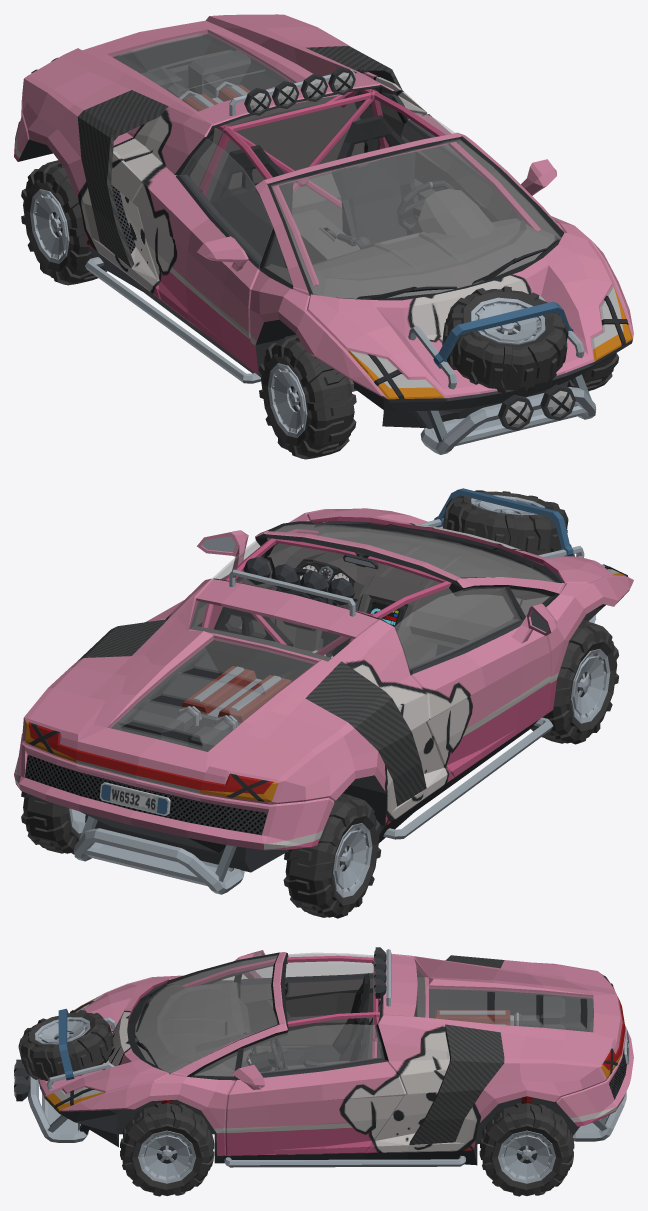
The model's file is SK_Veh_Preset_Exotic_03.fbx.
The picture shows the model from 3 angles, top to bottom: view 1: azimuth 30°, elevation 25°; view 2: azimuth 150°, elevation 25°; view 3: azimuth 270°, elevation 25°; orthographic projection. The views are drawn at different scales.
Visible parts, largest first — view 1: SK_Veh_Preset_Exotic_03, SK_Veh_Exotic_03_Glass, SK_Veh_Exotic_03_Bonnet_03, SK_Veh_Exotic_03_Door_R, SK_Veh_Exotic_03_Seats_01, SK_Veh_Exotic_03_Wheel_37, SK_Veh_Exotic_03_Wheel_fr, SK_Veh_Exotic_03_Engine_Cover_01, SK_Veh_Exotic_03_Rollcage_01, SK_Veh_Exotic_03_Wheel_rr, SK_Veh_Exotic_03_Front_Bumper_03, SK_Veh_Exotic_03_Door_R_Glass (+8 smaller); view 2: SK_Veh_Preset_Exotic_03, SK_Veh_Exotic_03_Rear_Bumper_03, SK_Veh_Exotic_03_Door_R, SK_Veh_Exotic_03_Engine_Cover_01, SK_Veh_Exotic_03_Glass, SK_Veh_Exotic_03_Wheel_rr, SK_Veh_Exotic_03_Engine_01, SK_Veh_Exotic_03_Wheel_fr, SK_Veh_Exotic_03_Door_R_Glass, SK_Veh_Exotic_03_Bonnet_03, SK_Veh_Exotic_03_Wheel_37, SK_Veh_Exotic_03_Rollcage_01 (+7 smaller); view 3: SK_Veh_Preset_Exotic_03, SK_Veh_Exotic_03_Door_L, SK_Veh_Exotic_03_Glass, SK_Veh_Exotic_03_Wheel_rl, SK_Veh_Exotic_03_Wheel_fl, SK_Veh_Exotic_03_Door_R, SK_Veh_Exotic_03_Bonnet_03, SK_Veh_Exotic_03_Engine_Cover_01, SK_Veh_Exotic_03_Door_L_Glass, SK_Veh_Exotic_03_Wheel_37, SK_Veh_Exotic_03_Rear_Bumper_03, SK_Veh_Exotic_03_Seats_01 (+8 smaller).
Part boxes in pixels (x1,y1,x2,y2): SK_Veh_Preset_Exotic_03: (22,14,633,427); SK_Veh_Exotic_03_Glass: (266,95,560,299); SK_Veh_Exotic_03_Bonnet_03: (307,232,613,398); SK_Veh_Exotic_03_Door_R: (133,174,262,371); SK_Veh_Exotic_03_Seats_01: (210,115,418,268); SK_Veh_Exotic_03_Wheel_37: (442,286,568,392); SK_Veh_Exotic_03_Wheel_fr: (259,334,356,459); SK_Veh_Exotic_03_Engine_Cover_01: (107,29,296,111); SK_Veh_Exotic_03_Rollcage_01: (199,89,541,286); SK_Veh_Exotic_03_Wheel_rr: (21,160,107,285); SK_Veh_Exotic_03_Front_Bumper_03: (412,374,596,454); SK_Veh_Exotic_03_Door_R_Glass: (180,139,272,262); SK_Veh_Preset_Exotic_03: (22,509,633,872); SK_Veh_Exotic_03_Rear_Bumper_03: (14,733,334,894); SK_Veh_Exotic_03_Door_R: (408,604,556,777); SK_Veh_Exotic_03_Engine_Cover_01: (107,636,316,751); SK_Veh_Exotic_03_Glass: (190,524,555,660); SK_Veh_Exotic_03_Wheel_rr: (283,793,381,918); SK_Veh_Exotic_03_Engine_01: (118,666,291,751); SK_Veh_Exotic_03_Wheel_fr: (531,620,618,744); SK_Veh_Exotic_03_Door_R_Glass: (394,587,521,670); SK_Veh_Exotic_03_Bonnet_03: (307,488,612,583); SK_Veh_Exotic_03_Wheel_37: (443,490,568,555); SK_Veh_Exotic_03_Rollcage_01: (201,529,451,655); SK_Veh_Preset_Exotic_03: (38,952,625,1165); SK_Veh_Exotic_03_Door_L: (225,1057,406,1155); SK_Veh_Exotic_03_Glass: (135,955,424,1075); SK_Veh_Exotic_03_Wheel_rl: (479,1103,574,1196); SK_Veh_Exotic_03_Wheel_fl: (120,1102,214,1196); SK_Veh_Exotic_03_Door_R: (234,950,379,1044); SK_Veh_Exotic_03_Bonnet_03: (38,977,168,1096); SK_Veh_Exotic_03_Engine_Cover_01: (429,985,593,1031); SK_Veh_Exotic_03_Door_L_Glass: (241,1024,383,1072); SK_Veh_Exotic_03_Wheel_37: (18,1010,113,1080); SK_Veh_Exotic_03_Rear_Bumper_03: (556,1022,633,1141); SK_Veh_Exotic_03_Seats_01: (284,973,369,1065).
Bounding box in the file's own units: 269 × 173 × 537.
